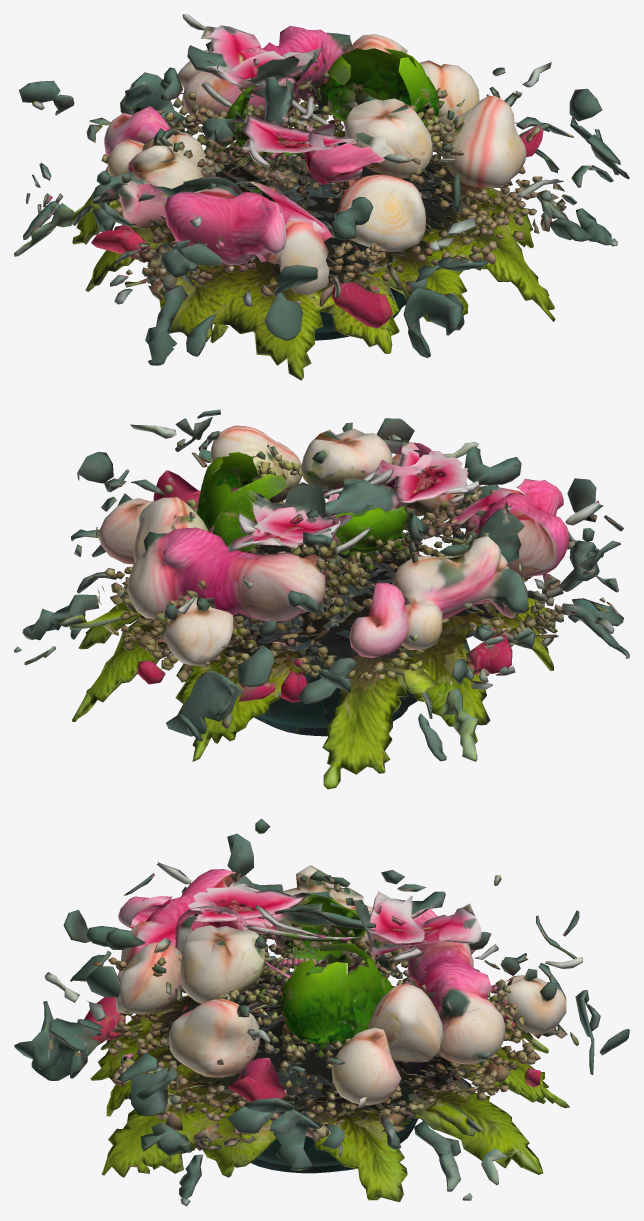
The model's file is Meshy_AI_Blossoming_Elegance_1226142939_texture.fbx.
3 views of the same model, one above another, from view 1: azimuth 30°, elevation 25°; view 2: azimuth 150°, elevation 25°; view 3: azimuth 270°, elevation 25° (orthographic). The views are drawn at different scales.
Visible parts, largest first — view 1: Mesh_0; view 2: Mesh_0; view 3: Mesh_0.
Boxes of the visible parts, <box> form: Mesh_0: <box>14,14,629,380</box>; Mesh_0: <box>14,409,629,789</box>; Mesh_0: <box>14,818,629,1206</box>.
Size of the model in its own units: 178 by 77.5 by 190.
1 material, 1 textured.
